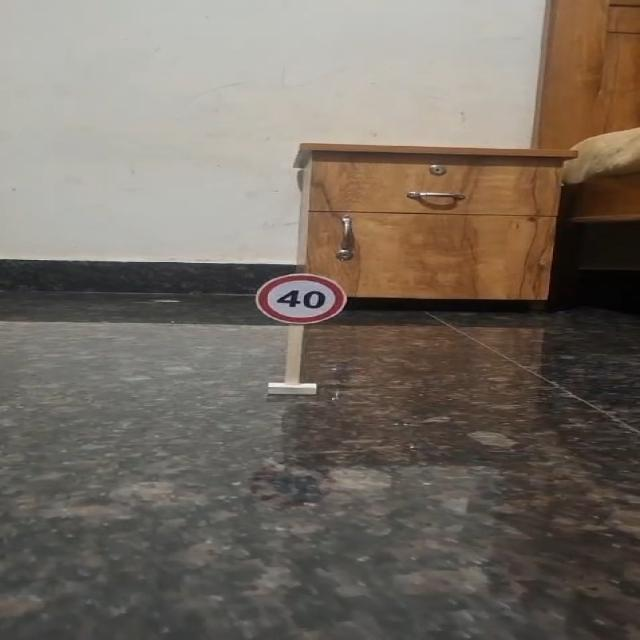Speed40: (254, 270, 349, 326)
